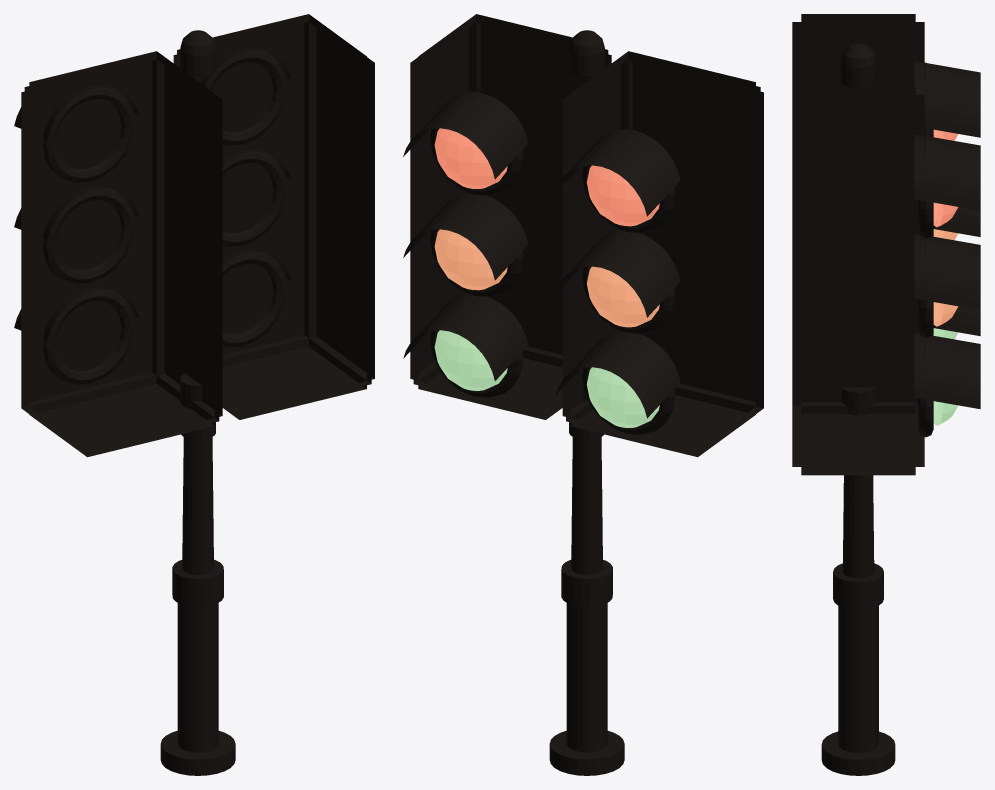
Rendered from 35-traffic-light-bs3.glb.
The picture shows the model from 3 angles, left to right: view 1: azimuth 30°, elevation 25°; view 2: azimuth 150°, elevation 25°; view 3: azimuth 270°, elevation 25°; orthographic projection.
Visible parts, largest first — view 1: HeadL, HeadR, PoleLower, PoleUpper, Bezel_red_-0.34, Bezel_orange_-0.34, Bezel_green_-0.34, Bezel_red_+0.34, BaseFlange, Bezel_green_+0.34, Bezel_orange_+0.34, CollarRing (+6 smaller); view 2: HeadL, HeadR, PoleLower, Hood_red_+0.34, Hood_red_-0.34, Hood_orange_+0.34, Hood_orange_-0.34, Hood_green_-0.34, Hood_green_+0.34, PoleUpper, Lens_orange_-0.34, Lens_red_+0.34 (+14 smaller); view 3: HeadR, HeadL, PoleLower, Hood_red_+0.34, Hood_green_+0.34, Hood_orange_+0.34, Hood_red_-0.34, PoleUpper, BaseFlange, CollarRing, Hood_orange_-0.34, Hood_green_-0.34 (+9 smaller).
Part boxes in pixels (<box>): HeadL: <box>21,51,222,457</box>; HeadR: <box>173,14,374,419</box>; PoleLower: <box>177,603,218,752</box>; PoleUpper: <box>182,437,213,574</box>; Bezel_red_-0.34: <box>43,85,134,182</box>; Bezel_orange_-0.34: <box>43,186,134,283</box>; Bezel_green_-0.34: <box>43,287,134,384</box>; Bezel_red_+0.34: <box>205,48,286,145</box>; BaseFlange: <box>160,730,235,775</box>; Bezel_green_+0.34: <box>222,250,286,347</box>; Bezel_orange_+0.34: <box>222,149,286,246</box>; CollarRing: <box>172,559,223,606</box>; HeadL: <box>562,51,763,457</box>; HeadR: <box>410,14,611,419</box>; PoleLower: <box>566,603,607,752</box>; Hood_red_+0.34: <box>403,92,528,179</box>; Hood_red_-0.34: <box>555,129,680,216</box>; Hood_orange_+0.34: <box>403,193,528,280</box>; Hood_orange_-0.34: <box>555,230,680,317</box>; Hood_green_-0.34: <box>555,331,680,418</box>; Hood_green_+0.34: <box>403,294,528,380</box>; PoleUpper: <box>571,437,602,574</box>; Lens_orange_-0.34: <box>586,266,659,327</box>; Lens_red_+0.34: <box>434,128,507,188</box>; HeadR: <box>792,87,924,475</box>; HeadL: <box>792,14,924,94</box>; PoleLower: <box>838,605,878,752</box>; Hood_red_+0.34: <box>914,134,980,210</box>; Hood_green_+0.34: <box>914,332,980,409</box>; Hood_orange_+0.34: <box>914,233,980,309</box>; Hood_red_-0.34: <box>914,61,980,137</box>; PoleUpper: <box>842,475,874,578</box>; BaseFlange: <box>821,731,895,775</box>; CollarRing: <box>833,563,883,609</box>; Hood_orange_-0.34: <box>933,207,980,236</box>; Hood_green_-0.34: <box>933,306,980,336</box>.
Bounding box in the file's own units: 1.32 × 3.11 × 0.74.
